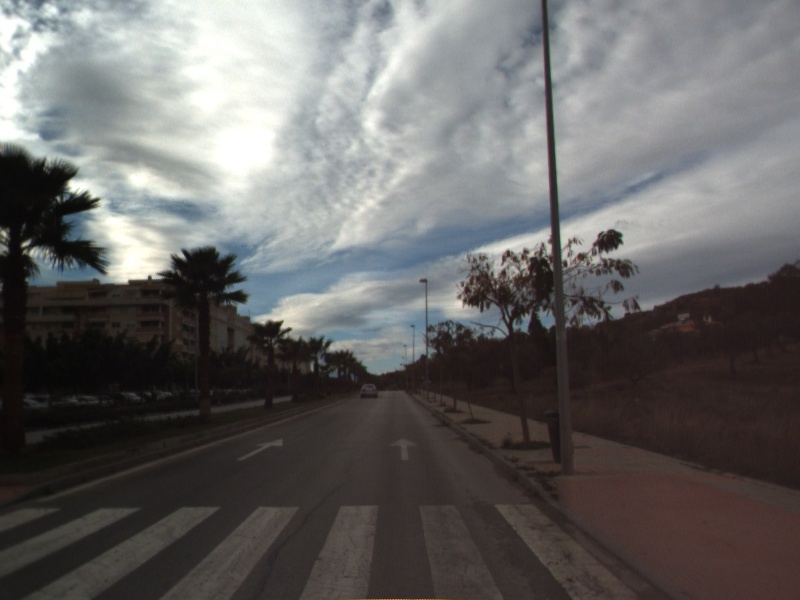STRAIGHT: (234, 436, 284, 463), (387, 436, 419, 462)
